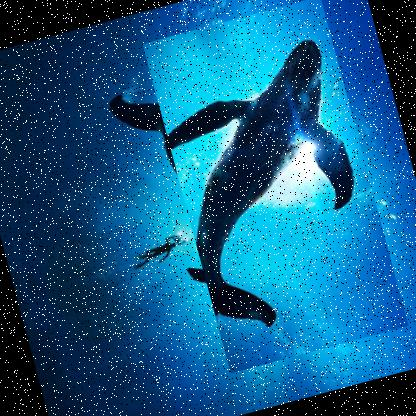blue_whale: (141, 0, 409, 374)
